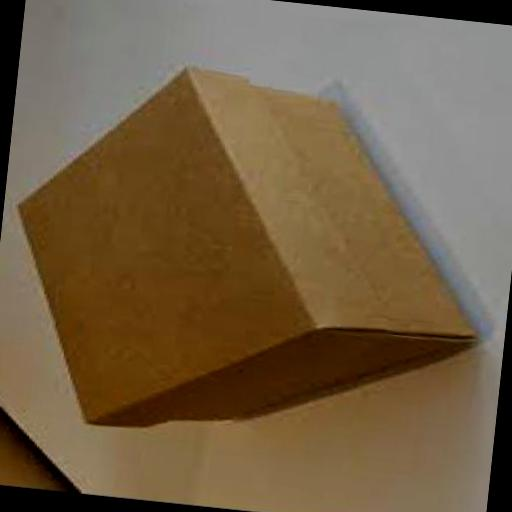cardboard: (0, 51, 501, 463)
